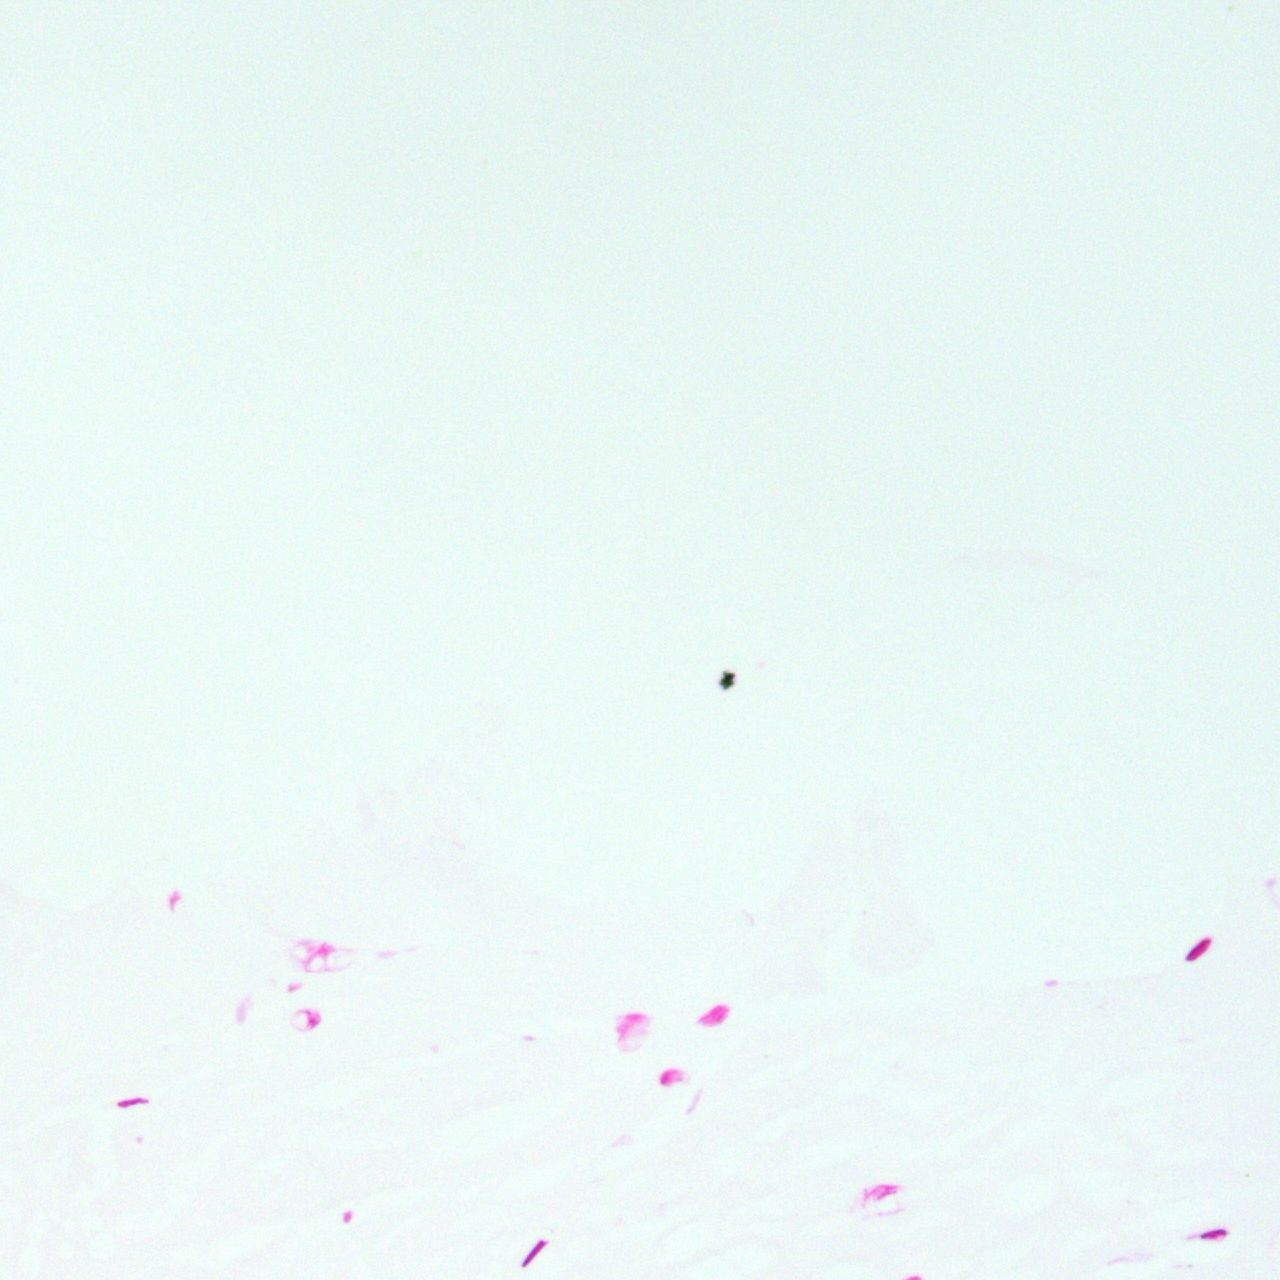dust: (719, 670, 734, 689)
nucleus-FG: (1184, 933, 1216, 965), (519, 1235, 549, 1269), (660, 1068, 688, 1084), (1199, 1227, 1227, 1242)
